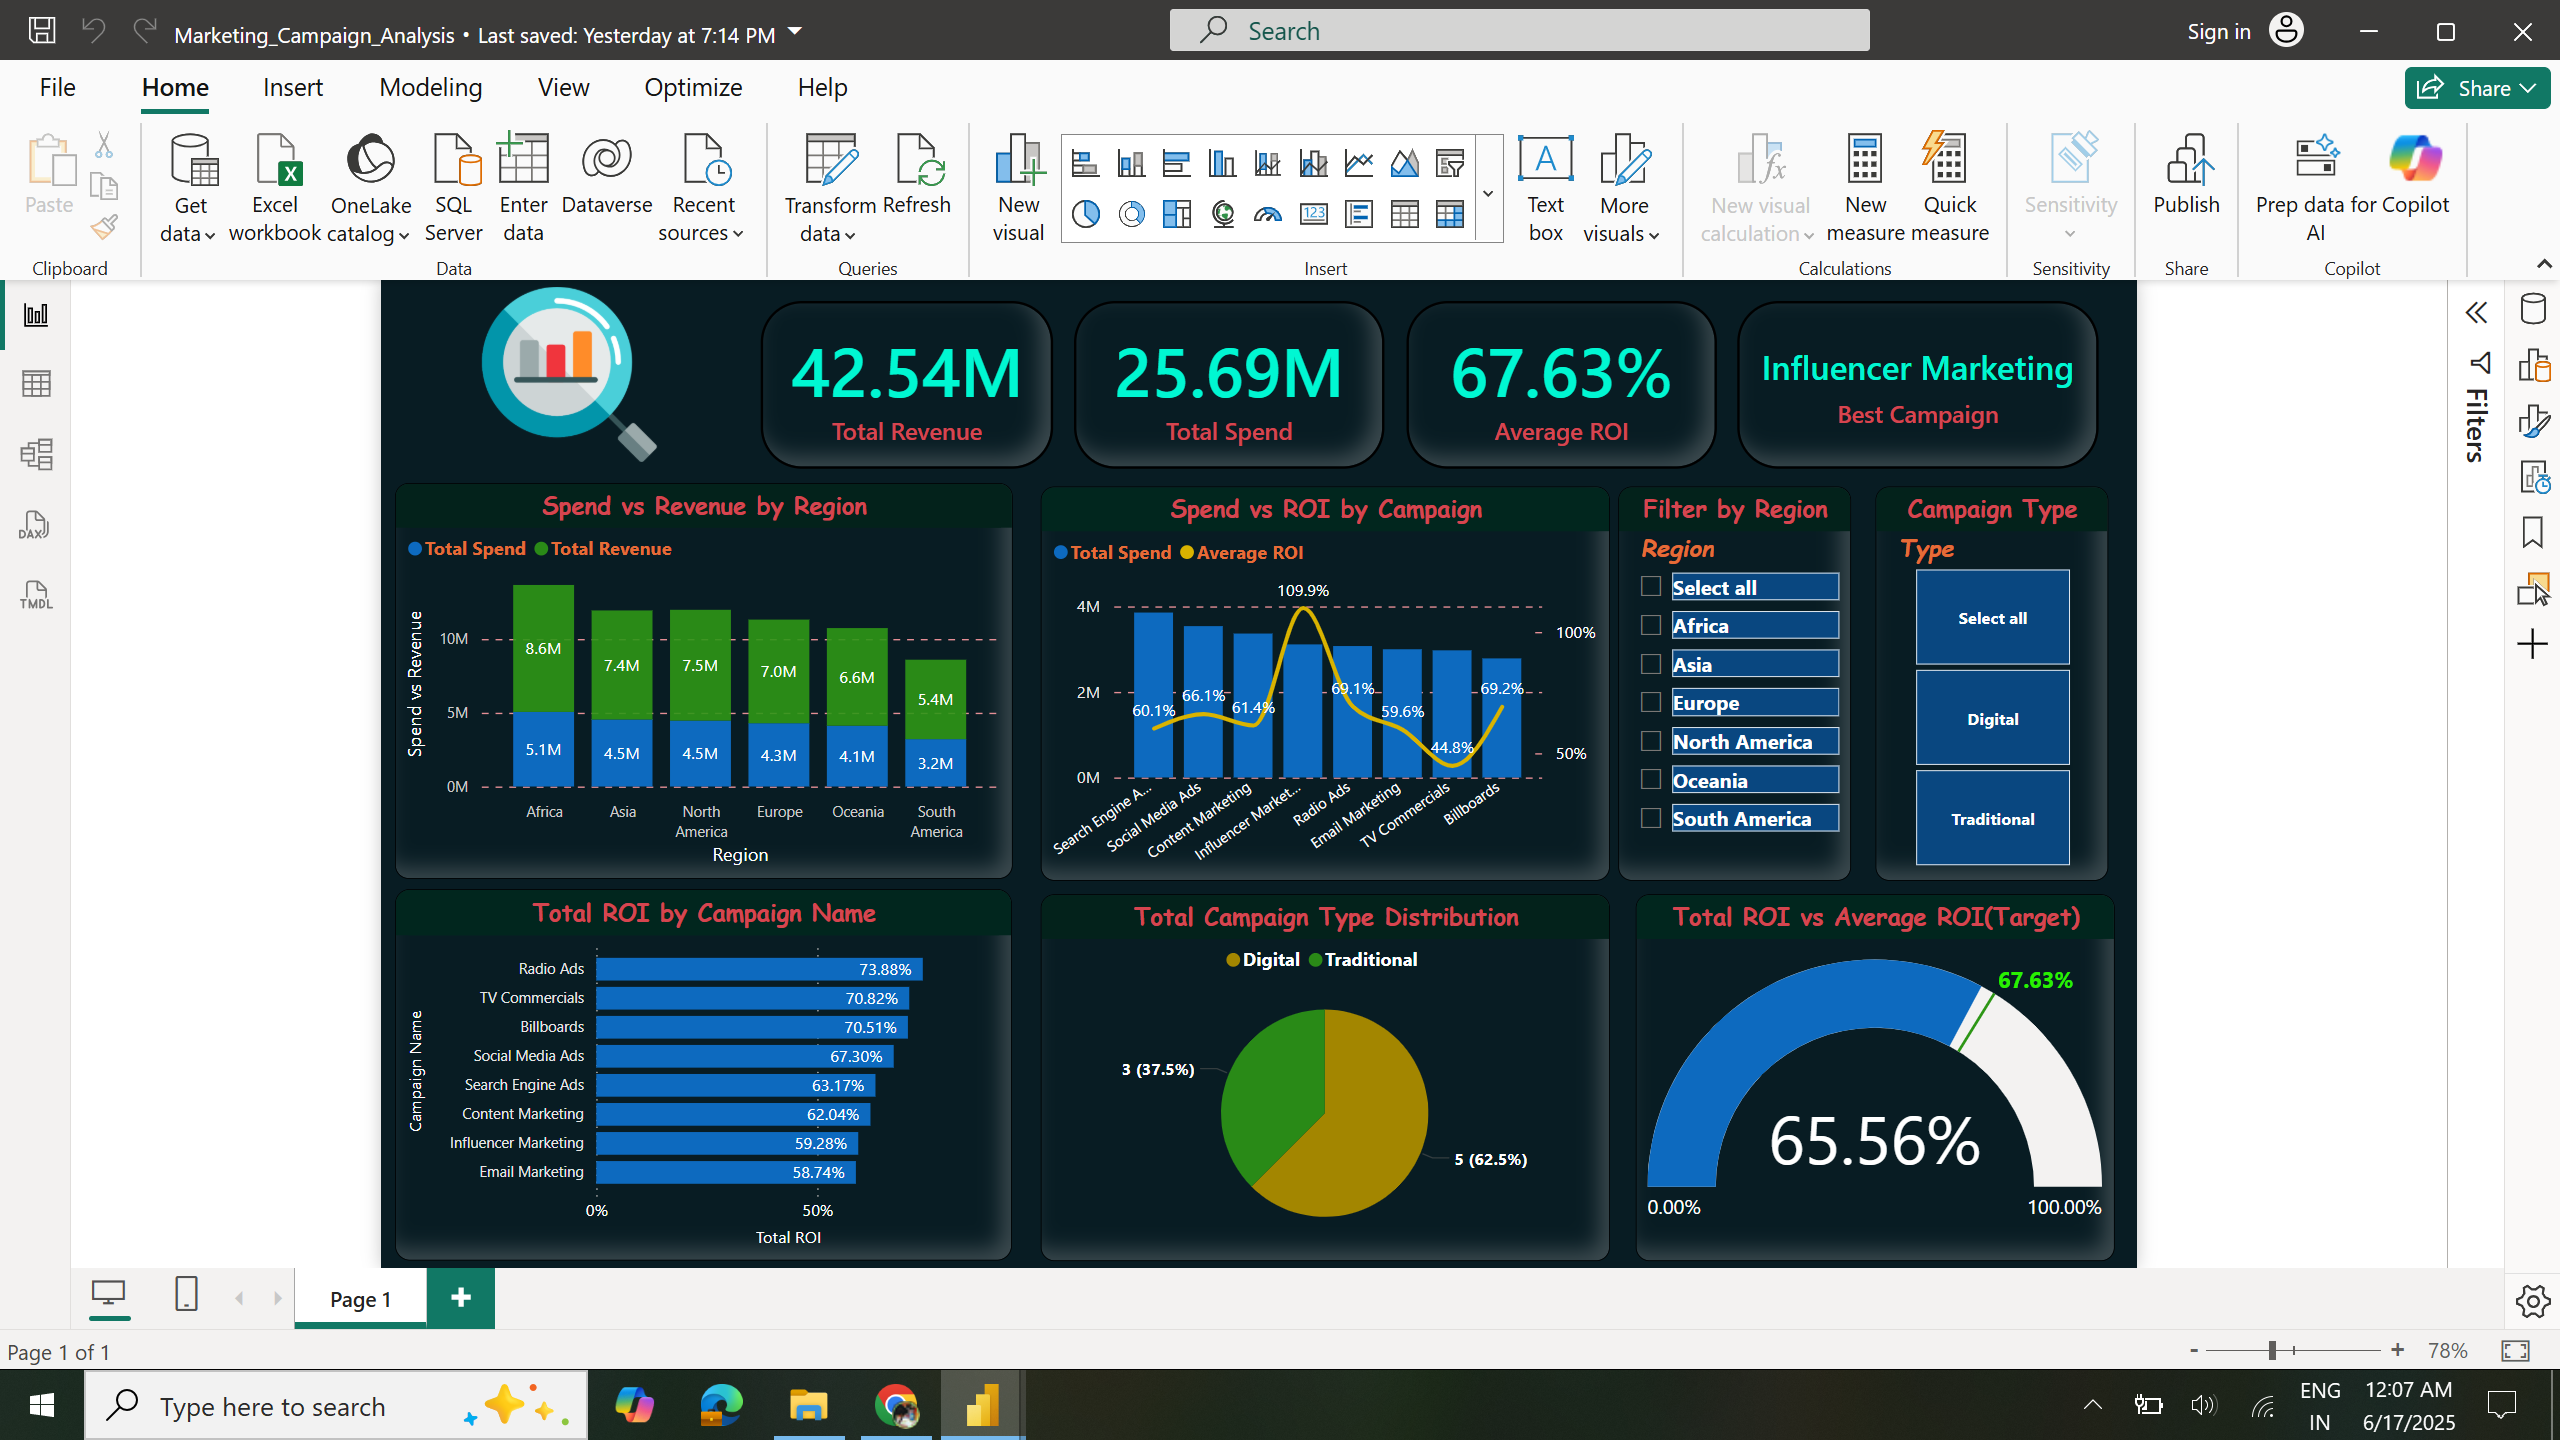

What the dashboard file says about the page in this screenshot:
{"tool":"powerbi","page":{"name":"Page 1","canvas":[1280,720],"ordinal":0},"visuals":[{"type":"card","fields":{"Values":["Measure.Total Revenue"]},"box":[277.4,15.4,213.2,122],"z":0,"group":"g1"},{"type":"columnChart","title":"Spend vs Revenue by Region","fields":{"Category":["marketing campaign performance(in).Region"],"Y":["Measure.Total Spend","Measure.Total Revenue"]},"box":[10,148.6,450,288.6],"z":0},{"type":"card","fields":{"Values":["Measure.Total Spend"]},"box":[506,15.4,226.1,122],"z":1000,"group":"g1"},{"type":"lineClusteredColumnComboChart","title":"Spend vs ROI by Campaign","fields":{"Y":["Measure.Total Spend"],"Y2":["Measure.Average ROI"],"Category":["marketing campaign performance(in).Campaign Name"]},"box":[480.4,150.3,414.9,287.7],"z":1000},{"type":"card","fields":{"Values":["Measure.Average ROI"]},"box":[747.5,15.4,226.1,122],"z":2000,"group":"g1"},{"type":"barChart","fields":{"Category":["marketing campaign performance(in).Campaign Name"],"Y":["Measure.Total ROI"]},"box":[10.3,444.4,449.5,271],"z":2000},{"type":"card","fields":{"Values":["Measure.Best Campaign"]},"box":[989,15.4,263.3,122],"z":3000,"group":"g1"},{"type":"pieChart","title":"Total Campaign Type Distribution","fields":{"Category":["marketing campaign details(in).Type"],"Y":["CountNonNull(marketing campaign details(in).Total Campaigns)"]},"box":[480.4,448.3,414.9,267.2],"z":3000},{"type":"gauge","title":"Total ROI vs Average ROI(Target)","fields":{"Y":["Measure.Total ROI"],"TargetValue":["Measure.Average ROI"]},"box":[914.5,448.3,349.4,267.2],"z":4000},{"type":"slicer","title":"Filter by Region","fields":{"Values":["marketing campaign performance(in).Region"]},"box":[901.7,150.3,169.5,287.7],"z":5000},{"type":"slicer","title":"Campaign Type","fields":{"Values":["marketing campaign details(in).Type"]},"box":[1089.2,150.3,169.5,287.7],"z":6000},{"type":"image","box":[10.3,0,254.3,137.4],"z":7000},{"type":"group","id":"g1","title":"Group 1","box":[277.4,15.4,974.9,122],"z":8000}]}

Visuals, with their boxes on the page's 1280x720 design canvas (x1, y1, x2, y2). These are canvas units, not pixel positions in the 2560x1440 screenshot, which may show the page scaled, cropped or inside an application window:
card - Measure.Total Revenue: l=277, t=15, r=491, b=137
"Spend vs Revenue by Region" columnChart: l=10, t=149, r=460, b=437
card - Measure.Total Spend: l=506, t=15, r=732, b=137
"Spend vs ROI by Campaign" lineClusteredColumnComboChart: l=480, t=150, r=895, b=438
card - Measure.Average ROI: l=748, t=15, r=974, b=137
barChart - marketing campaign performance(in).Campaign Name x Measure.Total ROI: l=10, t=444, r=460, b=715
card - Measure.Best Campaign: l=989, t=15, r=1252, b=137
"Total Campaign Type Distribution" pieChart: l=480, t=448, r=895, b=716
"Total ROI vs Average ROI(Target)" gauge: l=914, t=448, r=1264, b=716
"Filter by Region" slicer: l=902, t=150, r=1071, b=438
"Campaign Type" slicer: l=1089, t=150, r=1259, b=438
image: l=10, t=0, r=265, b=137
"Group 1" group: l=277, t=15, r=1252, b=137
